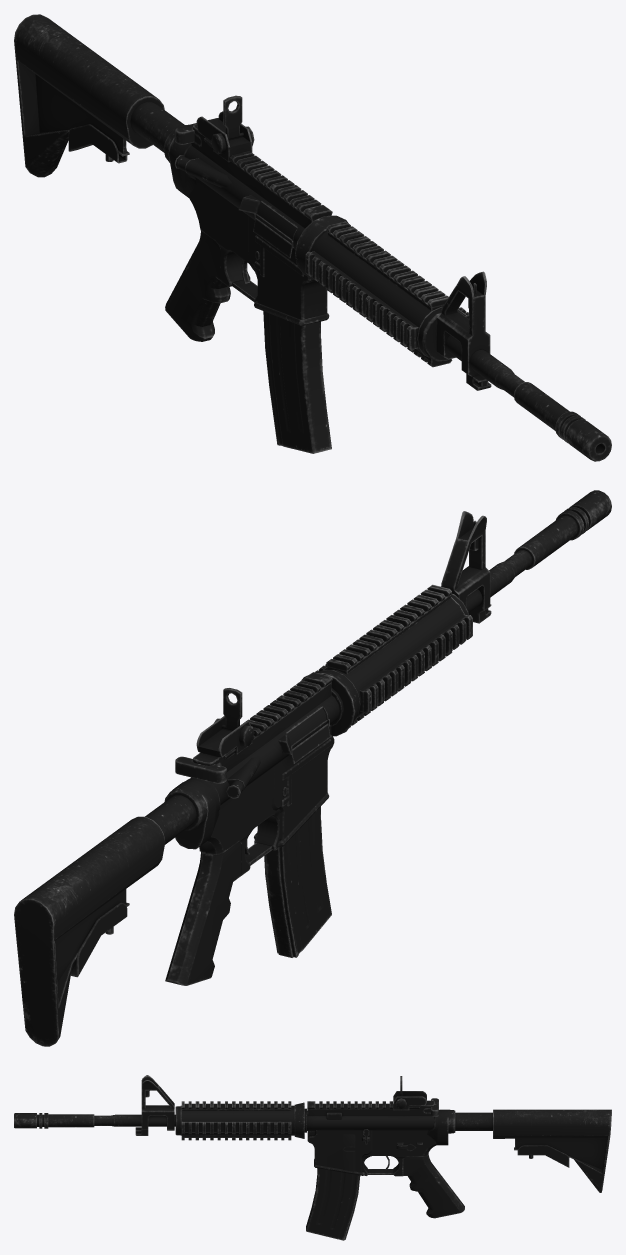
The picture shows the model from 3 angles, top to bottom: view 1: azimuth 30°, elevation 25°; view 2: azimuth 150°, elevation 25°; view 3: azimuth 270°, elevation 25°; orthographic projection. The views are drawn at different scales.
Visible parts, largest first — view 1: carcasse, canon, chargeur, culasse; view 2: carcasse, canon, chargeur, culasse; view 3: carcasse, canon, chargeur.
Boxes of the visible parts, box(x1,y1,x2,y2) form: carcasse: box(14, 14, 468, 367); canon: box(174, 95, 611, 461); chargeur: box(263, 311, 331, 453); culasse: box(175, 118, 296, 239); carcasse: box(14, 584, 472, 1046); canon: box(196, 490, 611, 798); chargeur: box(264, 807, 331, 957); culasse: box(175, 708, 326, 783); carcasse: box(175, 1100, 611, 1218); canon: box(14, 1075, 426, 1135); chargeur: box(306, 1168, 360, 1240).
Size of the model in its own units: 196 by 890 by 2994.
Materials: 5 (5 with a texture image).
